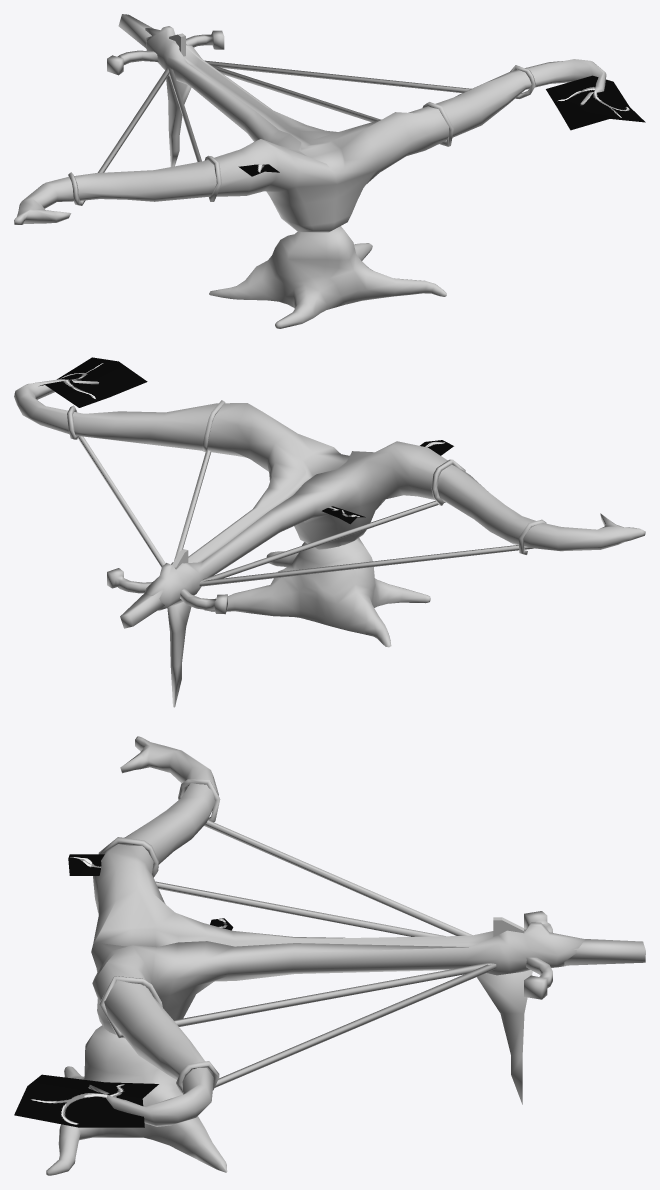
Rendered from Ballista.fbx.
3 views of the same model, one above another, from view 1: azimuth 30°, elevation 25°; view 2: azimuth 150°, elevation 25°; view 3: azimuth 270°, elevation 25° (orthographic). The views are drawn at different scales.
Parts seen in each view (by area): view 1: Balista; view 2: Balista; view 3: Balista.
Boxes of the visible parts, <box> form: Balista: <box>14,14,645,328</box>; Balista: <box>14,357,645,707</box>; Balista: <box>14,736,645,1175</box>.
Size of the model in its own units: 10.44 by 2.81 by 7.36.
